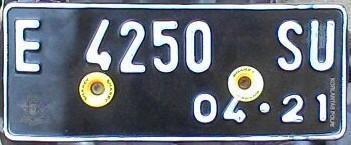0: (181, 18, 219, 78)
2: (112, 18, 151, 76)
4: (80, 16, 118, 74)
5: (144, 17, 183, 76)
E: (10, 21, 53, 77)
S: (266, 19, 308, 74)
U: (302, 16, 341, 74)
